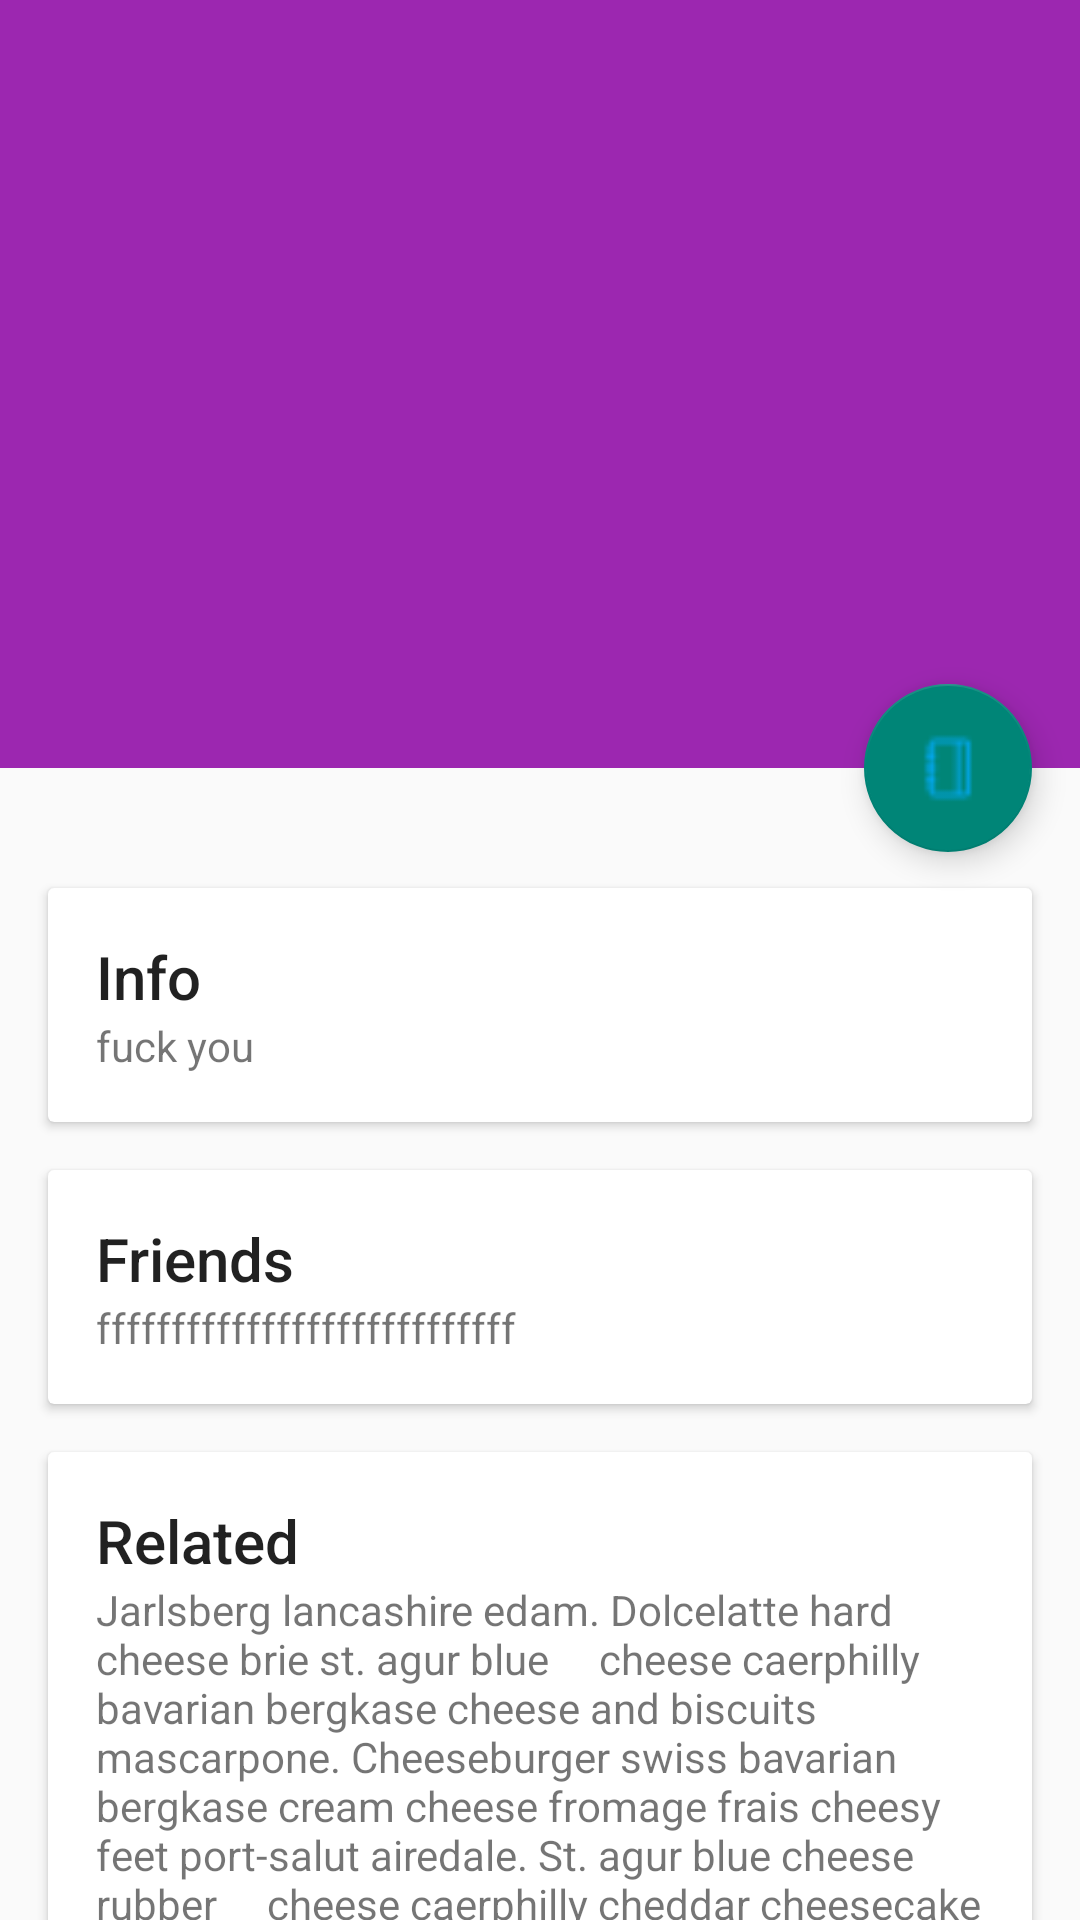

Named icons in this screenshot (1080px×1920px) and their centers, (x=x, y=y):
book: (x=948, y=768)
